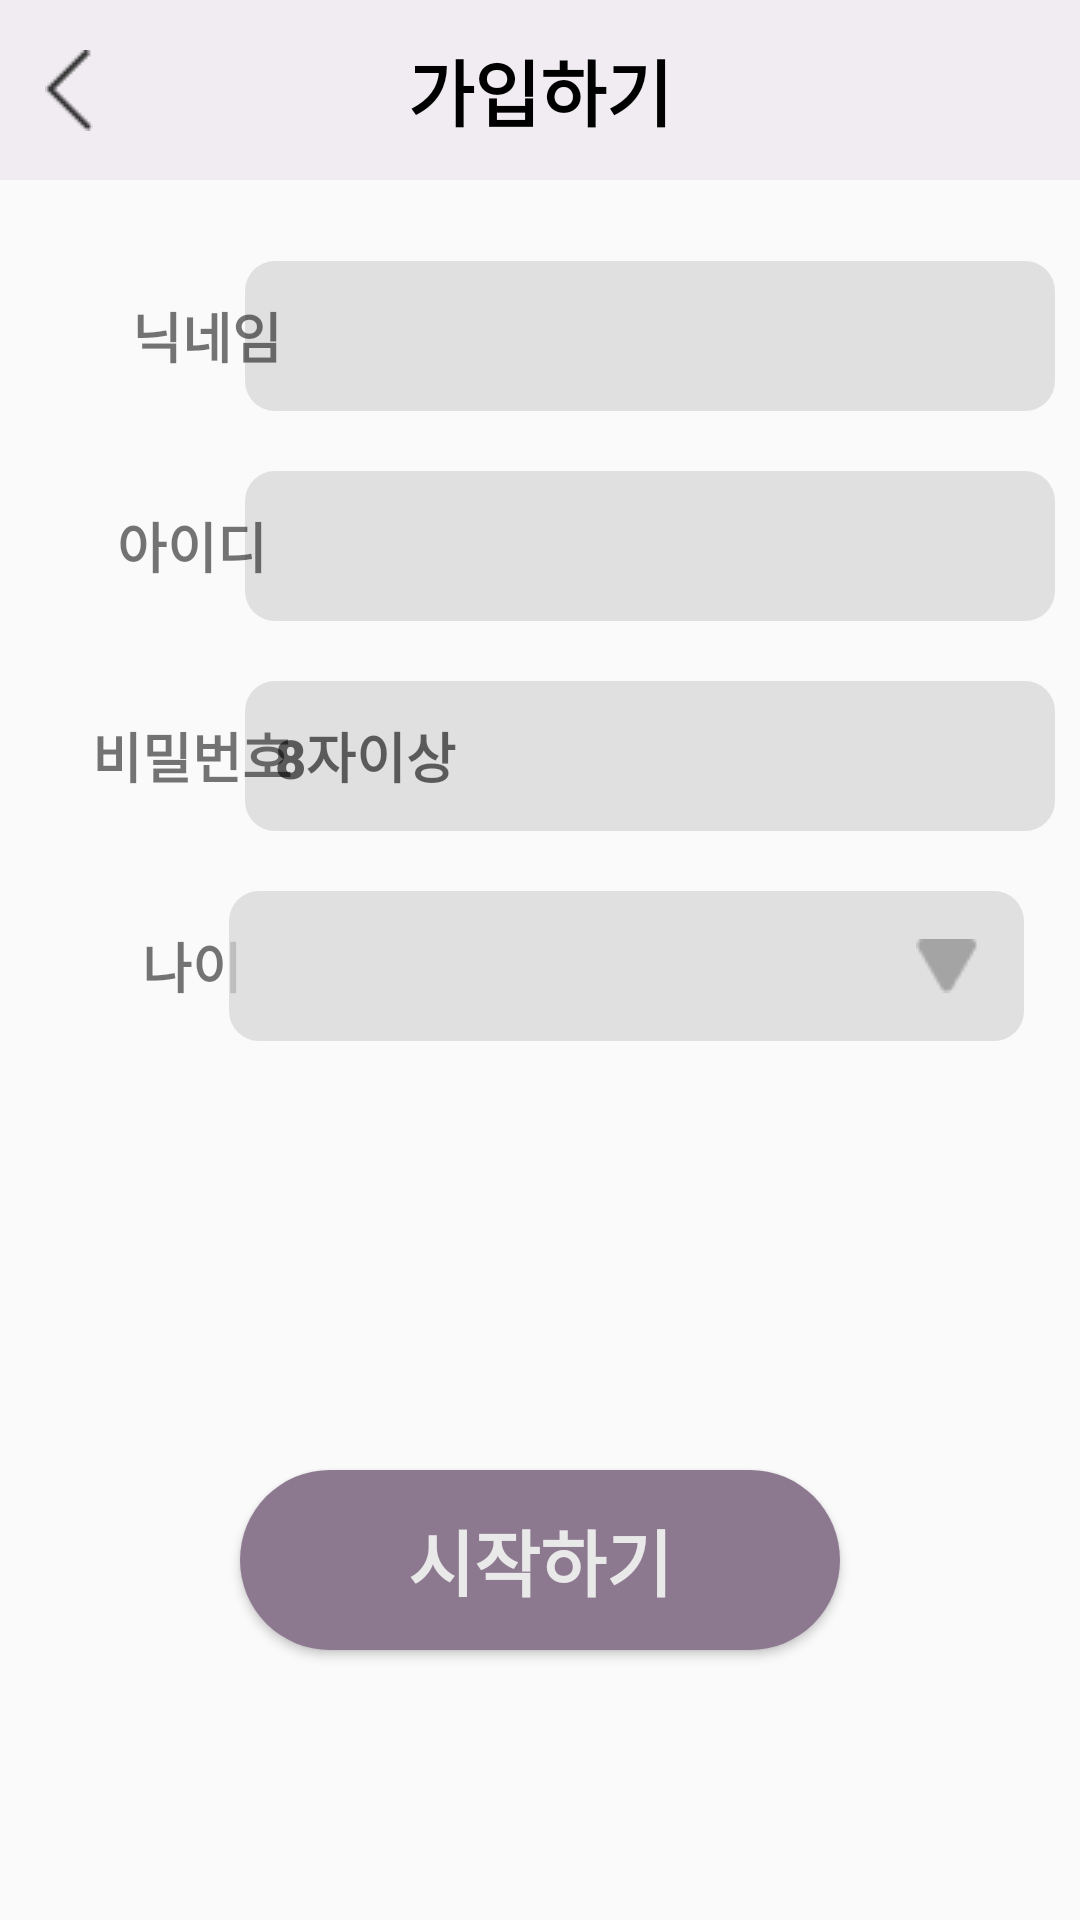

Icons on this 1080px x 1920px Android screen, each with the point to tap as point (x, y):
arrow: point (946, 966)
back press: point (68, 90)
